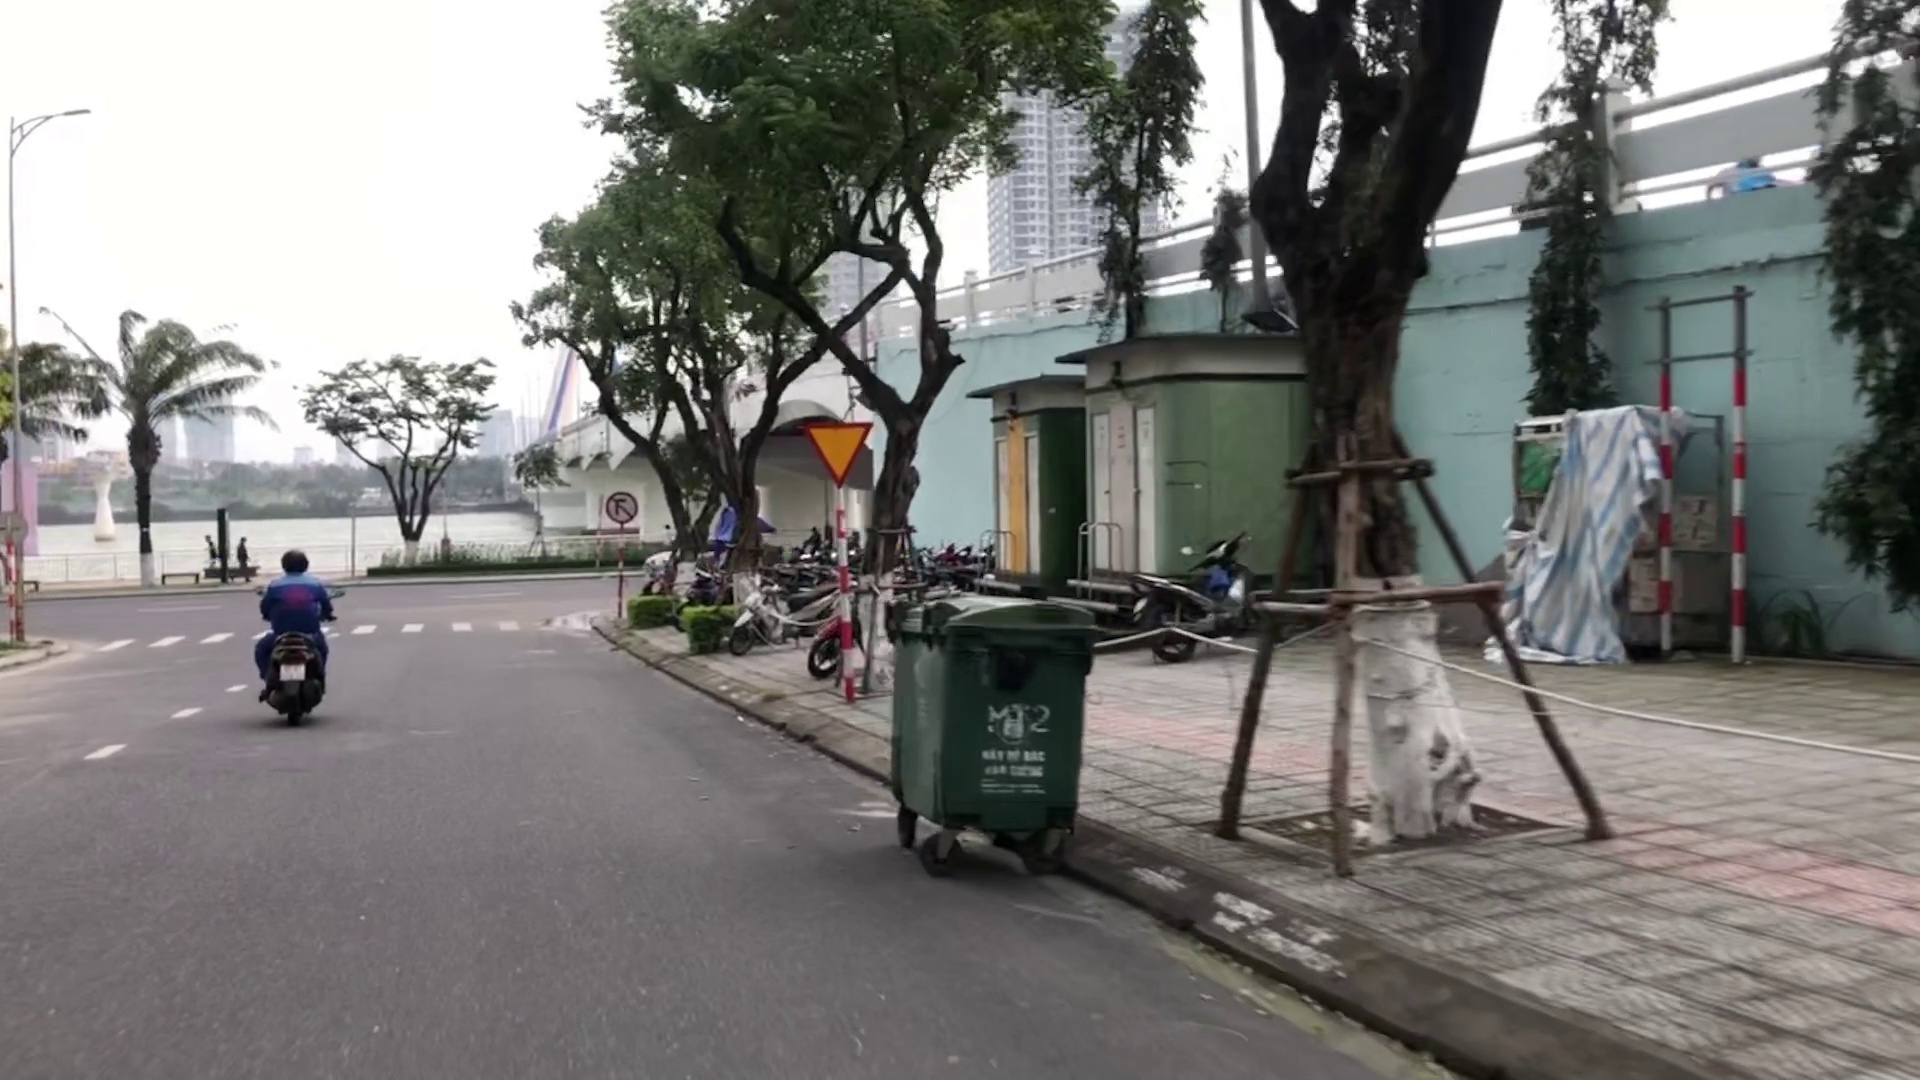Bien khac: (804, 419, 874, 485), (607, 489, 640, 524)
